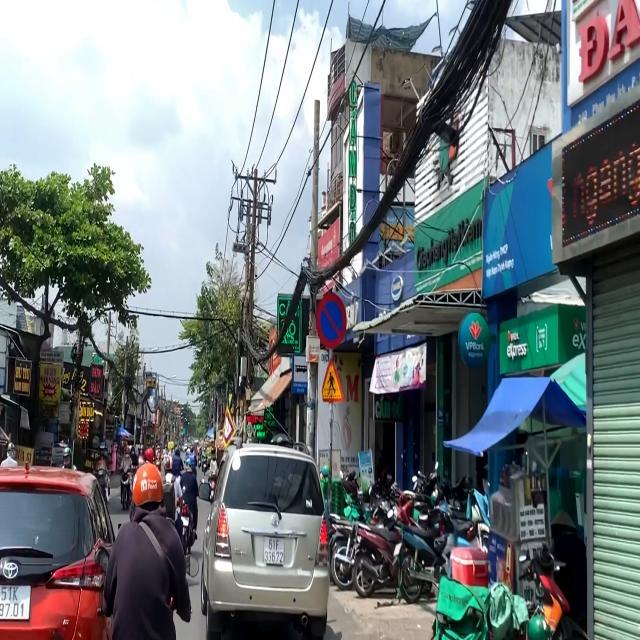P.131a: (316, 290, 347, 350)
W.224: (320, 356, 346, 406)
